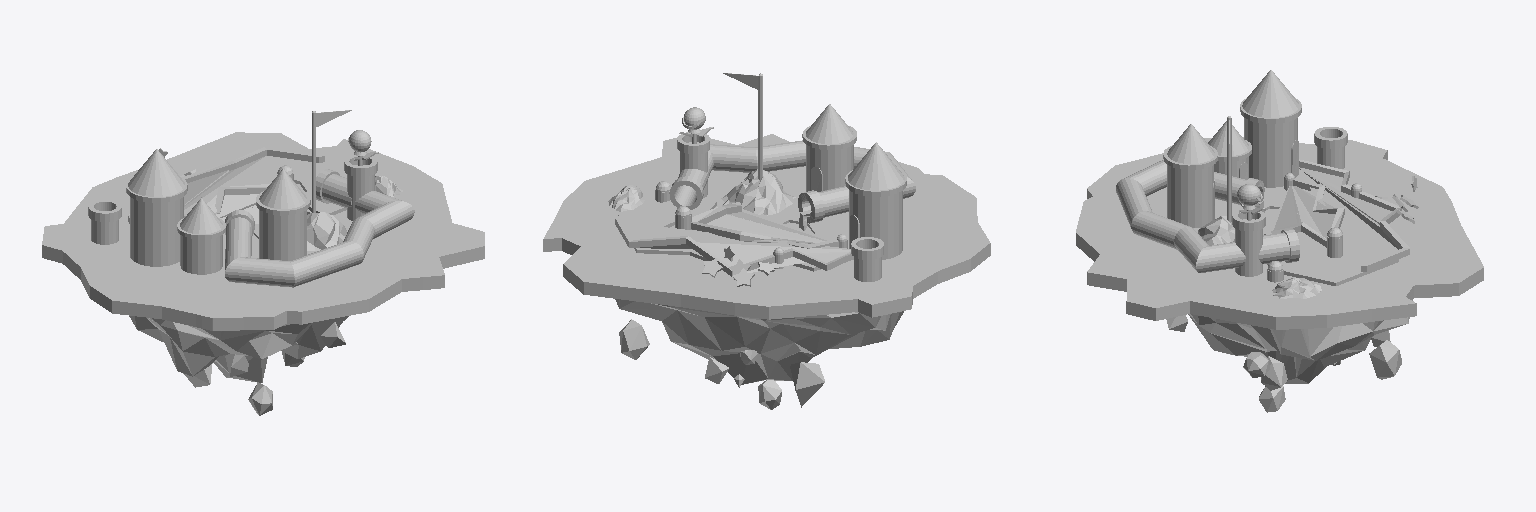
File: miniIsland.obj
3 renders of one model, left to right at view 1: azimuth 30°, elevation 25°; view 2: azimuth 150°, elevation 25°; view 3: azimuth 270°, elevation 25°, orthographic.
Visible parts, largest first — view 1: SRAE.1; view 2: SRAE.1; view 3: SRAE.1.
Boxes of the visible parts, <box> form: SRAE.1: <box>42,110,484,415</box>; SRAE.1: <box>543,73,990,409</box>; SRAE.1: <box>1076,70,1483,412</box>.
Bounding box in the file's own units: 317 × 256 × 304.